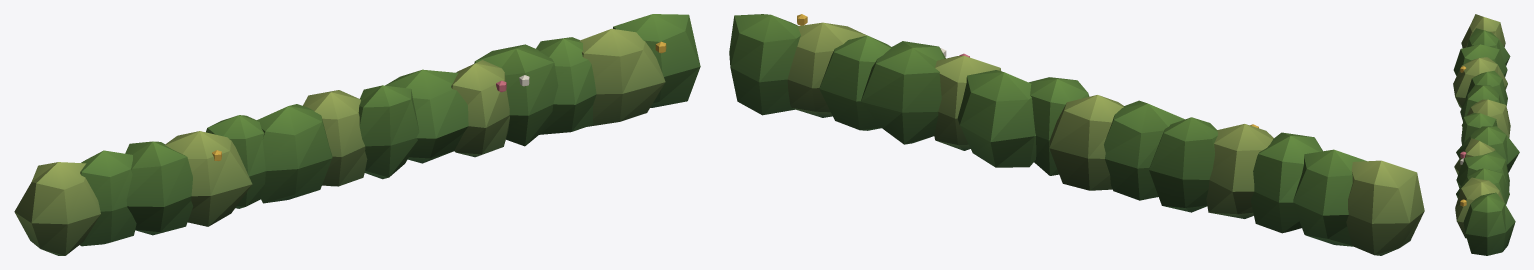
The model's file is scene_hedge_0.glb.
3 views of the same model, side by side, from view 1: azimuth 30°, elevation 25°; view 2: azimuth 150°, elevation 25°; view 3: azimuth 270°, elevation 25° (orthographic). The views are drawn at different scales.
Parts seen in each view (by area): view 1: scene_hedge_0; view 2: scene_hedge_0; view 3: scene_hedge_0.
Boxes of the visible parts, bbox=[...] form: scene_hedge_0: bbox=[14, 14, 700, 255]; scene_hedge_0: bbox=[729, 14, 1424, 255]; scene_hedge_0: bbox=[1453, 14, 1519, 255].
Bounding box in the file's own units: 8.39 × 1.12 × 1.17.
